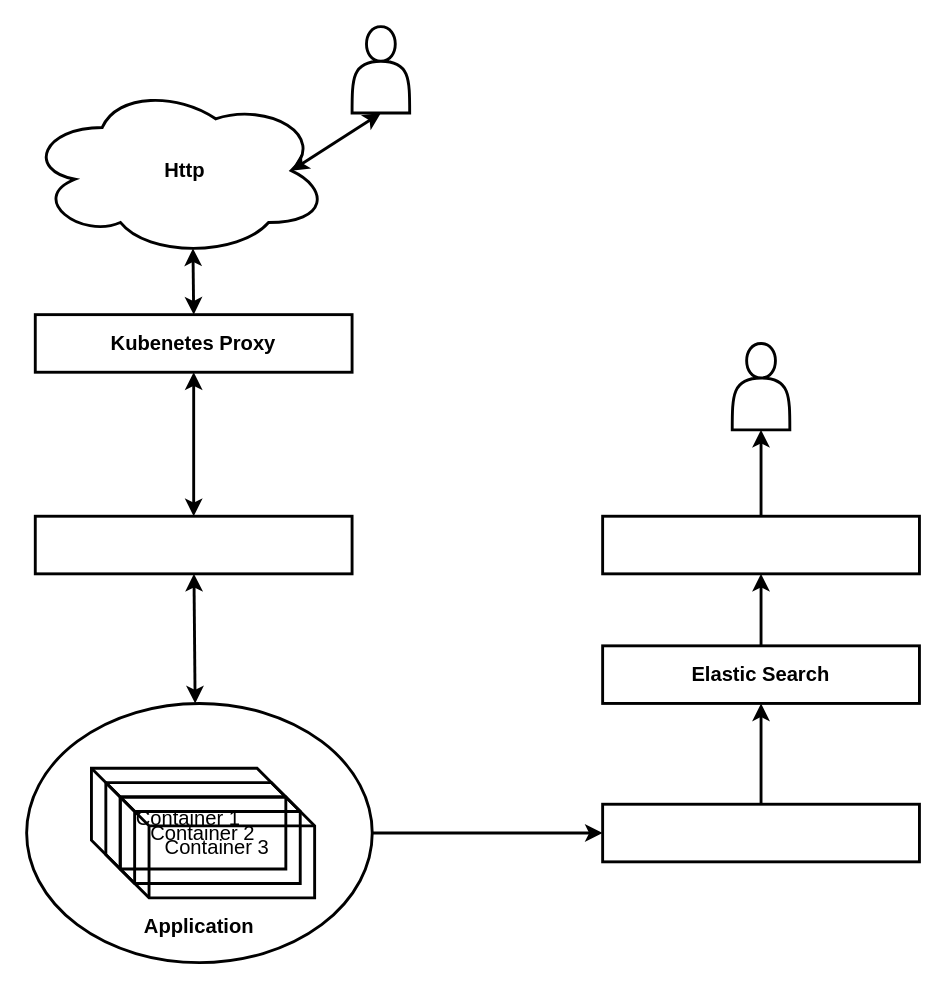
The diagram is 945 pixels wide and 988 high, and some of its shapes have lost their labels. The shapes that lost their labels are listed below. From the top down, each one's box as (x1, y1, x2, y2) in pixels, then its label:
(33, 514, 353, 575): Kubenetes DNS
(600, 514, 920, 575): Kibana/Graylog
(600, 802, 920, 863): Fluentd
